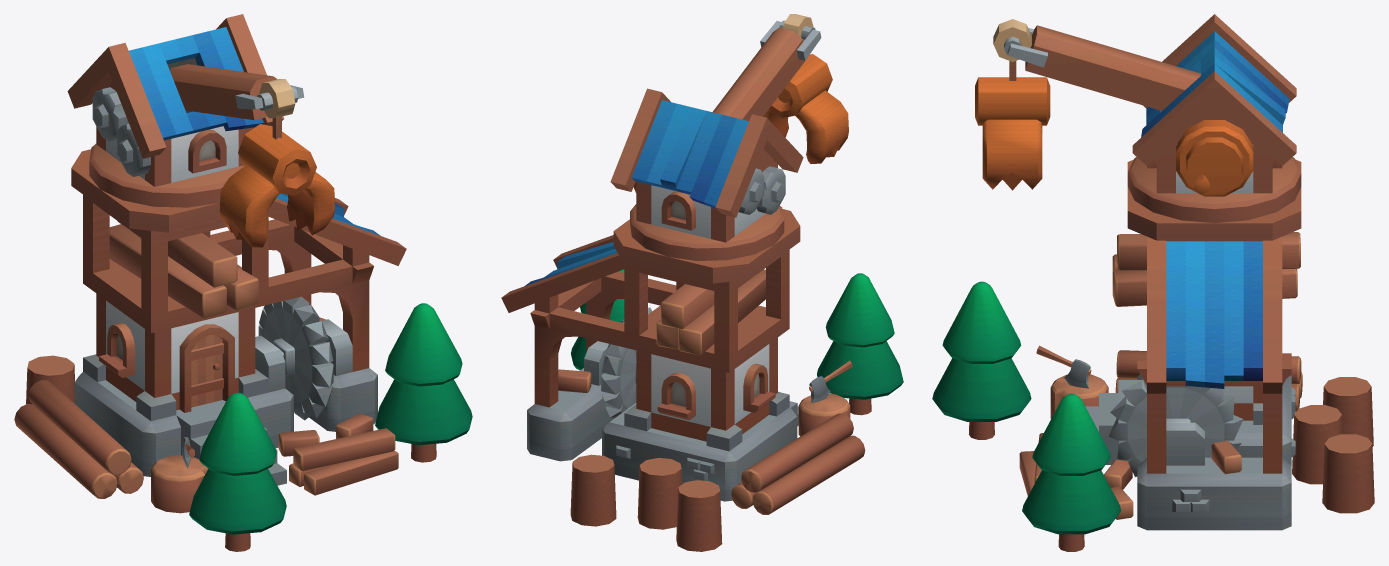
The model's file is LumberMill.gltf.
3 views of the same model, side by side, from view 1: azimuth 30°, elevation 25°; view 2: azimuth 150°, elevation 25°; view 3: azimuth 270°, elevation 25° (orthographic). The views are drawn at different scales.
Parts seen in each view (by area): view 1: building_lumbermill_blue, building_lumbermill_top_blue, tree_single_B, tree_single_B4, building_lumbermill_saw_blue, tree_single_B_cut3; view 2: building_lumbermill_blue, building_lumbermill_top_blue, tree_single_B, tree_single_B_cut5, tree_single_B_cut3, tree_single_B_cut, building_lumbermill_saw_blue, tree_single_B4; view 3: building_lumbermill_blue, building_lumbermill_top_blue, tree_single_B4, tree_single_B, building_lumbermill_saw_blue, tree_single_B_cut5, tree_single_B_cut, tree_single_B_cut3.
Boxes of the visible parts, bbox=[...] form: building_lumbermill_blue: bbox=[14, 149, 406, 513]; building_lumbermill_top_blue: bbox=[67, 14, 335, 247]; tree_single_B: bbox=[189, 392, 286, 551]; tree_single_B4: bbox=[375, 303, 472, 462]; building_lumbermill_saw_blue: bbox=[258, 296, 333, 420]; tree_single_B_cut3: bbox=[26, 355, 74, 404]; building_lumbermill_blue: bbox=[501, 209, 865, 514]; building_lumbermill_top_blue: bbox=[610, 14, 848, 260]; tree_single_B: bbox=[817, 273, 903, 415]; tree_single_B_cut5: bbox=[570, 454, 616, 526]; tree_single_B_cut3: bbox=[676, 480, 722, 551]; tree_single_B_cut: bbox=[637, 458, 682, 529]; building_lumbermill_saw_blue: bbox=[601, 307, 652, 417]; tree_single_B4: bbox=[571, 269, 624, 370]; building_lumbermill_blue: bbox=[1019, 159, 1302, 530]; building_lumbermill_top_blue: bbox=[975, 14, 1301, 223]; tree_single_B4: bbox=[1022, 393, 1120, 551]; tree_single_B: bbox=[932, 281, 1031, 439]; building_lumbermill_saw_blue: bbox=[1108, 378, 1243, 476]; tree_single_B_cut5: bbox=[1322, 434, 1374, 513]; tree_single_B_cut: bbox=[1292, 405, 1342, 484]; tree_single_B_cut3: bbox=[1323, 377, 1373, 446].
Bounding box in the file's own units: 1.45 × 1.8 × 1.61.
3 materials, 3 textured.
